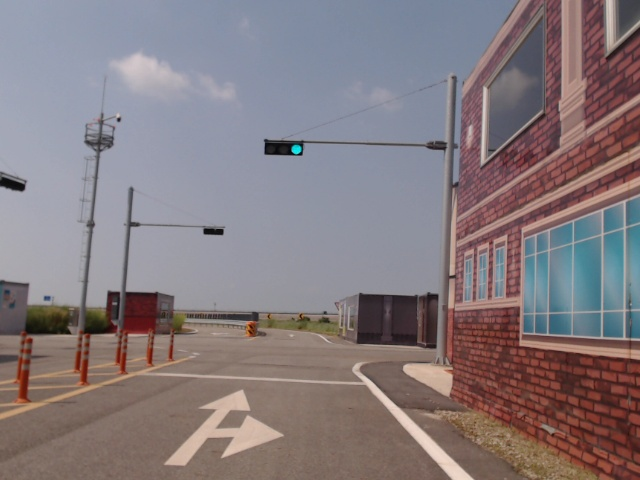green_3: (264, 143, 302, 156)
